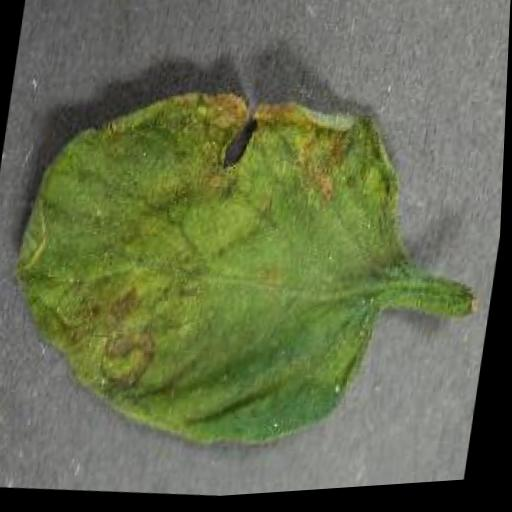Bacterial Spot: (0, 48, 464, 487)
